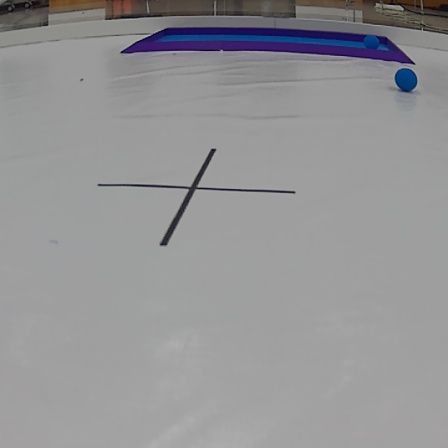blue: (393, 67, 420, 90), (363, 32, 380, 51)
blue_aim: (118, 23, 413, 67)
